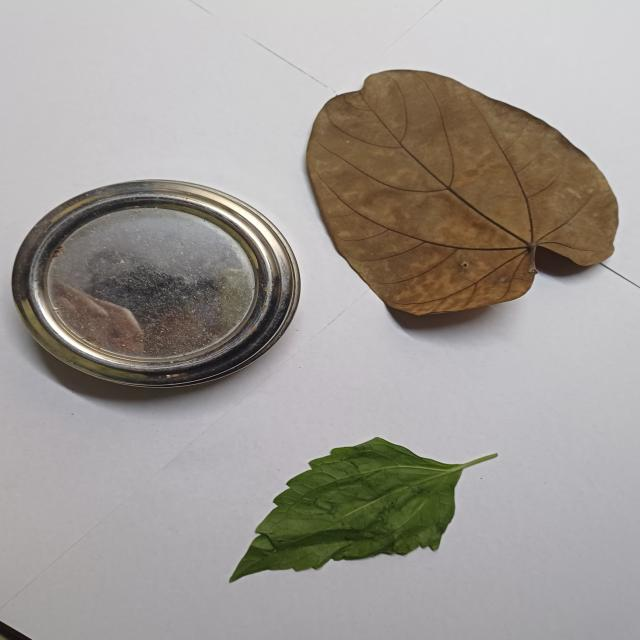Leaf-Bio: (302, 65, 621, 332), (227, 436, 500, 586)
Steel-NonBio: (8, 174, 308, 403)
